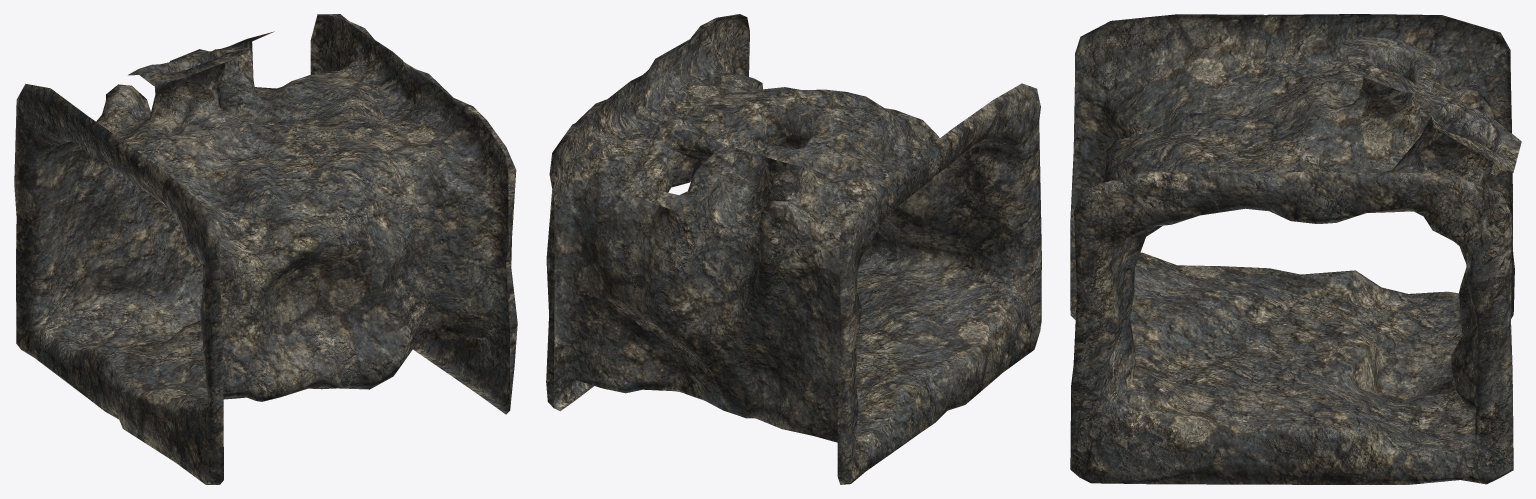
Rendered from Module15C.fbx.
The picture shows the model from 3 angles, left to right: view 1: azimuth 30°, elevation 25°; view 2: azimuth 150°, elevation 25°; view 3: azimuth 270°, elevation 25°; orthographic projection. The views are drawn at different scales.
Parts seen in each view (by area): view 1: cave_el15C_1900:Group30243; view 2: cave_el15C_1900:Group30243; view 3: cave_el15C_1900:Group30243.
Boxes of the visible parts, <box> form: cave_el15C_1900:Group30243: <box>14,14,517,484</box>; cave_el15C_1900:Group30243: <box>546,14,1041,484</box>; cave_el15C_1900:Group30243: <box>1070,14,1521,484</box>.
Size of the model in its own units: 33.29 by 30.34 by 36.66.
